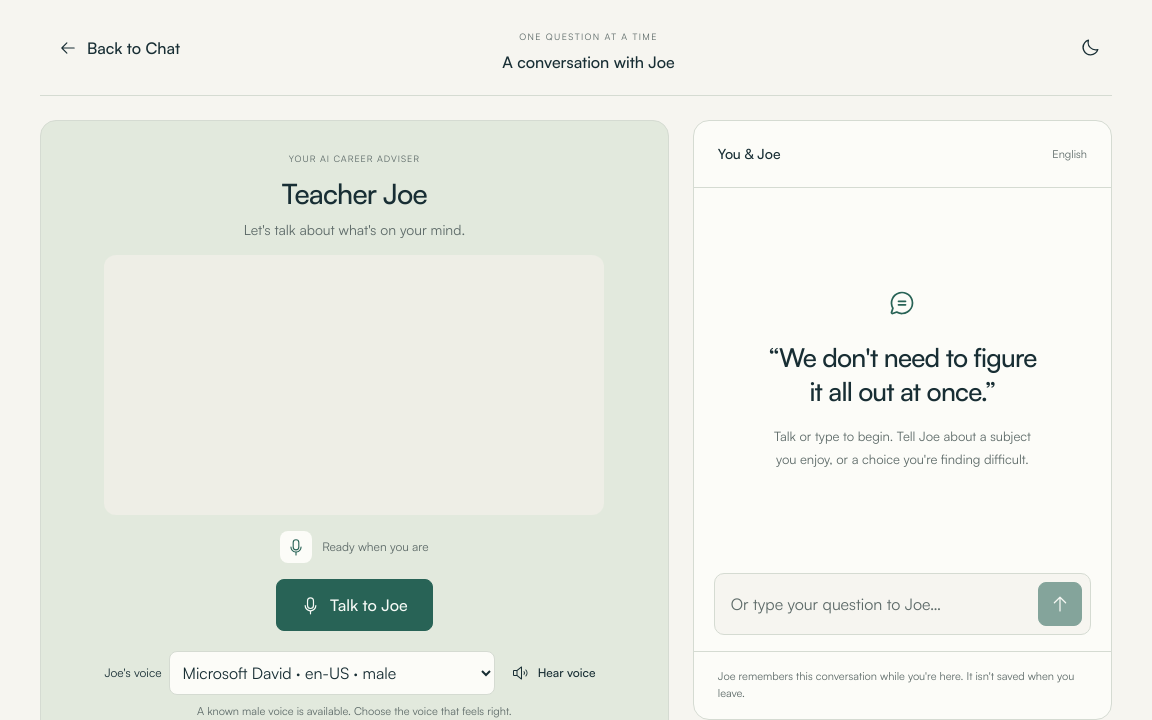
Scenario: voice input sends one finalized transcript, uses preview speech, and releases microphone/playback on exit
The image size is (1152, 720).
Later steps or results of the test are not shown.
Expected: the dropdown named "Teacher Joe voice" shows "Microsoft David · en-US · male", [170,651,495,695]
What coordinates should you click on to do the following:
click the button "Talk to Joe"
I would click on:
 (354, 605)
Its box is [276,579,433,631].
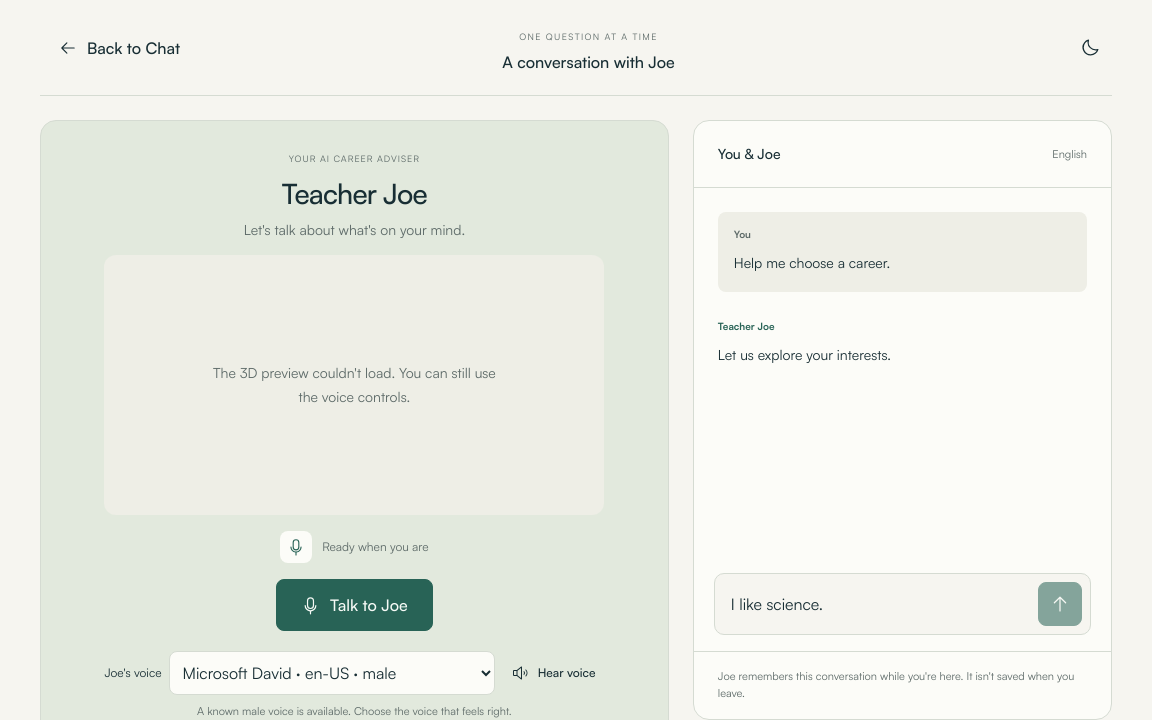
Now the number of elements with class "user" is 1, box [718,212,1087,292]
Now the element with class "bot" shows "explore your interests", box [718,346,891,362]
